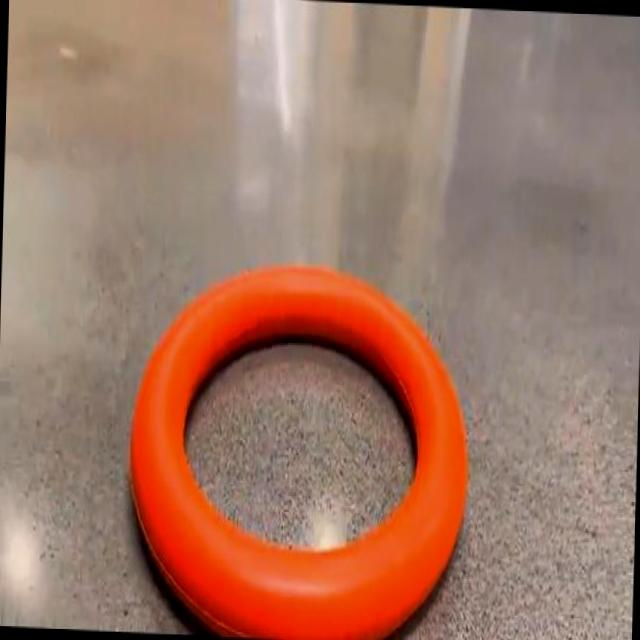note: (131, 266, 467, 640)
